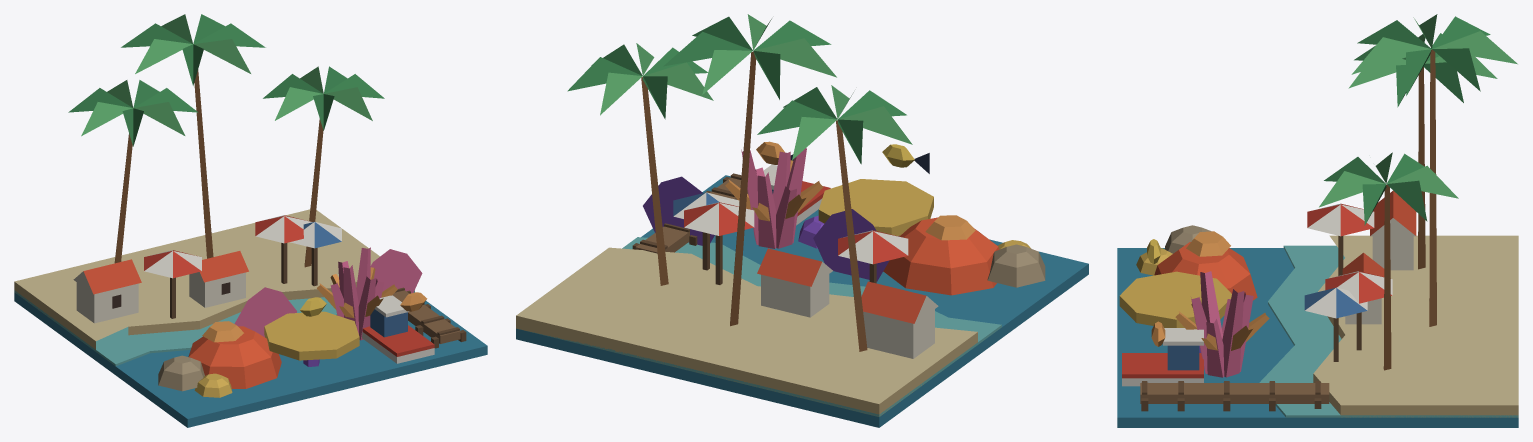
File: recifEilat.glb
3 renders of one model, left to right at view 1: azimuth 30°, elevation 25°; view 2: azimuth 150°, elevation 25°; view 3: azimuth 270°, elevation 25°, orthographic. The views are drawn at different scales.
Parts seen in each view (by area): view 1: recifEilat; view 2: recifEilat; view 3: recifEilat.
Part boxes in pixels (<box>): recifEilat: <box>14,14,487,427</box>; recifEilat: <box>516,14,1088,427</box>; recifEilat: <box>1117,14,1518,427</box>.
Bounding box in the file's own units: 1.79 × 1.47 × 1.76.
